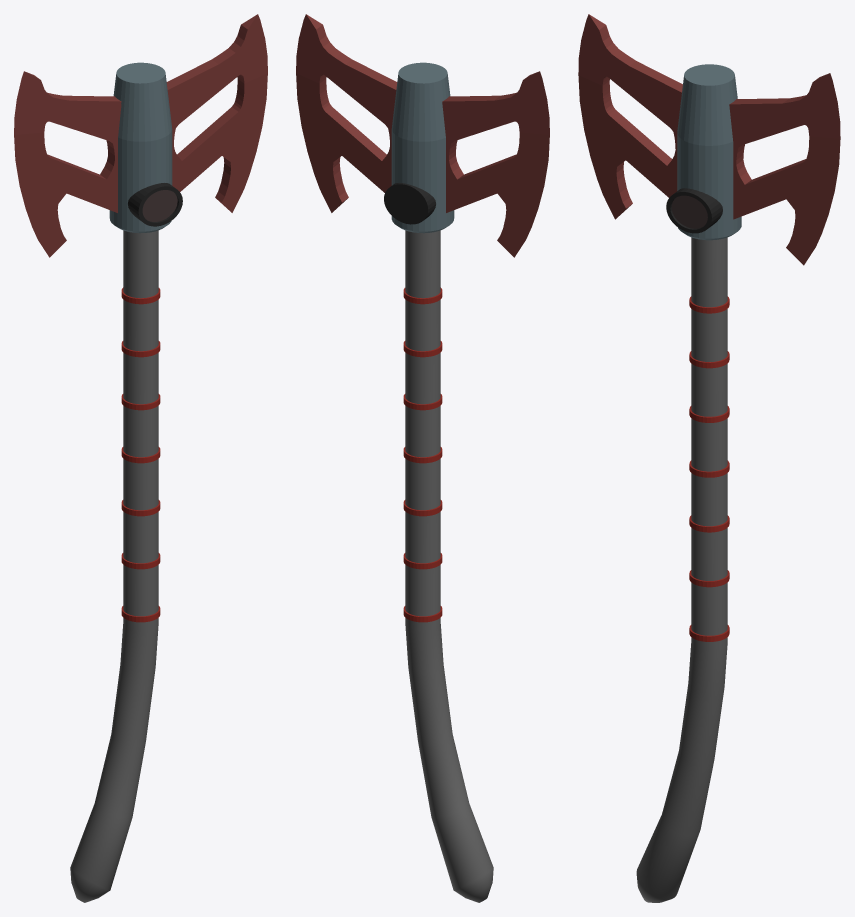
The model's file is SP_Plasma BattleAxe.fbx.
3 views of the same model, side by side, from view 1: azimuth 30°, elevation 25°; view 2: azimuth 150°, elevation 25°; view 3: azimuth 330°, elevation 25° (orthographic). The views are drawn at different scales.
Parts seen in each view (by area): view 1: PlasmaBattleAxe; view 2: PlasmaBattleAxe; view 3: PlasmaBattleAxe.
Boxes of the visible parts, <box> form: PlasmaBattleAxe: <box>14,14,267,902</box>; PlasmaBattleAxe: <box>296,14,549,902</box>; PlasmaBattleAxe: <box>578,14,840,902</box>.
Bounding box in the file's own units: 213 × 679 × 53.41.
